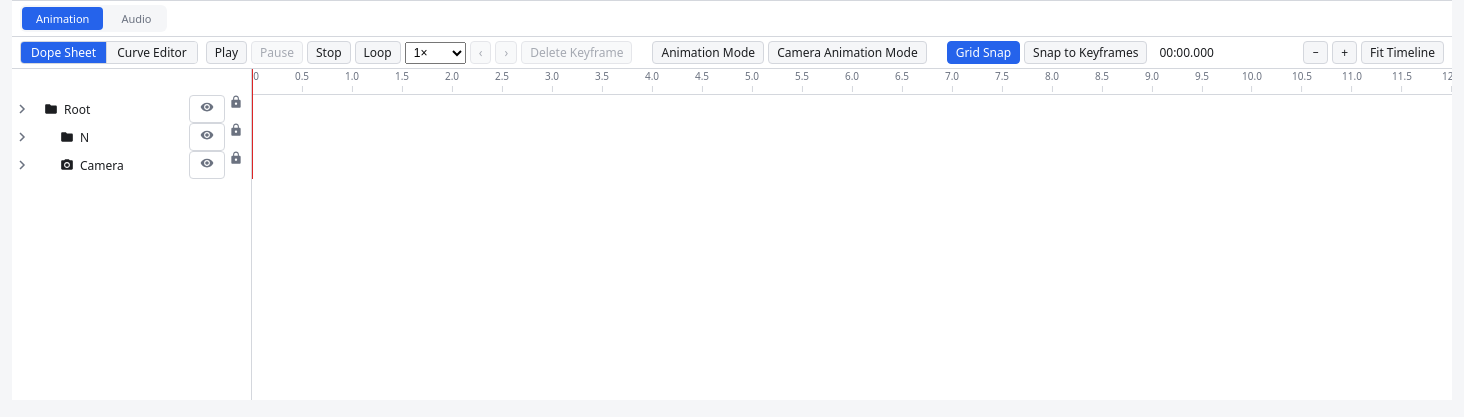
Scenario: AudioTimelineBody — resize modifiers and settings › per-track settings clear single track
Click the tab with test id "timeline-tab-audio".
click(136, 18)  # box [107,7,166,30]
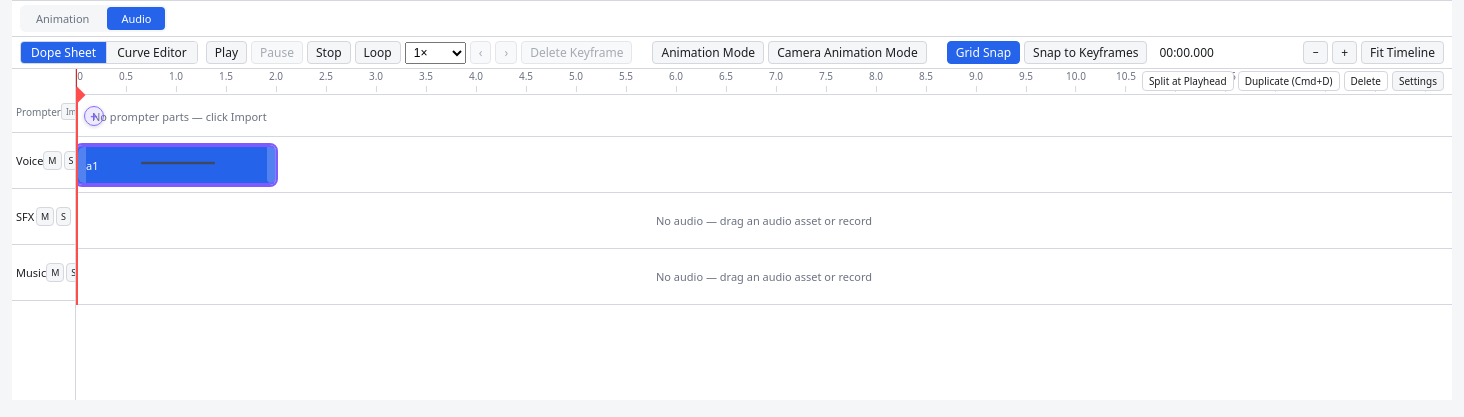
Click the button with test id "audio-resize-settings".
click(1418, 81)  # box [1392,71,1444,91]
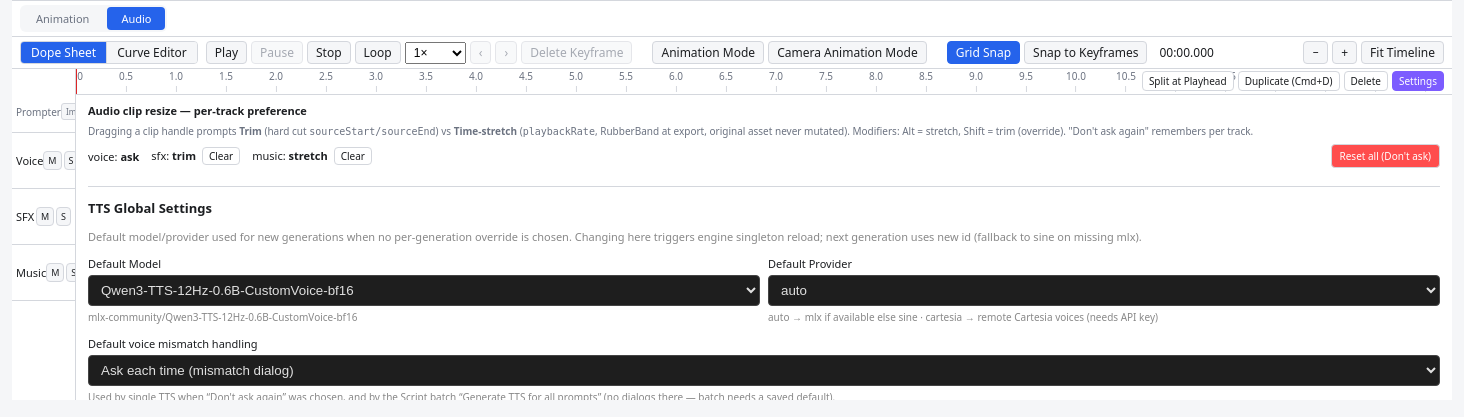
Check: the element with test id "audio-resize-pref-sfx" shows "trim", box [172,148,196,163]
Check: the element with test id "audio-resize-pref-music" shows "stretch", box [288,148,328,163]
Click the button with test id "audio-resize-clear-sfx".
click(221, 156)  # box [202,147,240,165]
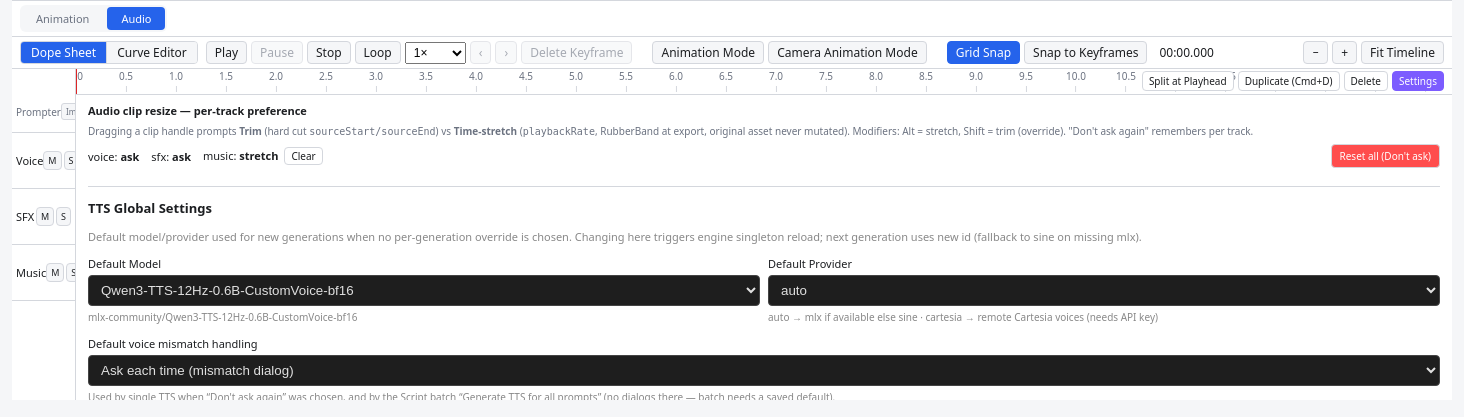
Check: the element with test id "audio-resize-pref-music" shows "stretch", box [239,148,278,163]
Check: the element with test id "audio-resize-pref-sfx" shows "ask", box [172,148,191,164]
